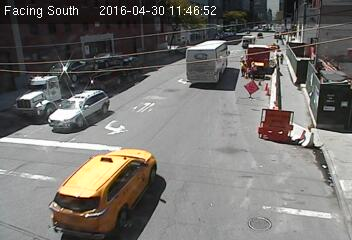neg: (137, 104, 158, 132), (139, 58, 155, 80), (189, 130, 204, 150), (187, 61, 201, 81), (273, 127, 283, 140)
pos: (235, 56, 248, 74), (277, 51, 285, 61), (274, 37, 280, 44)
